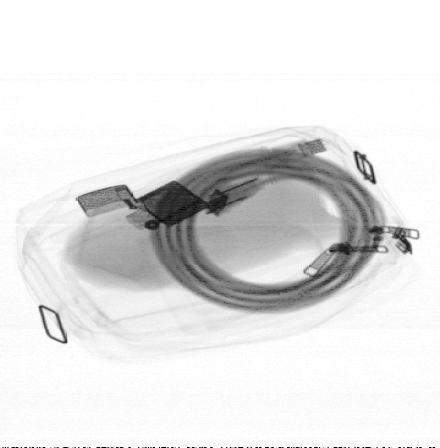Lighter: (73, 180, 211, 232)
